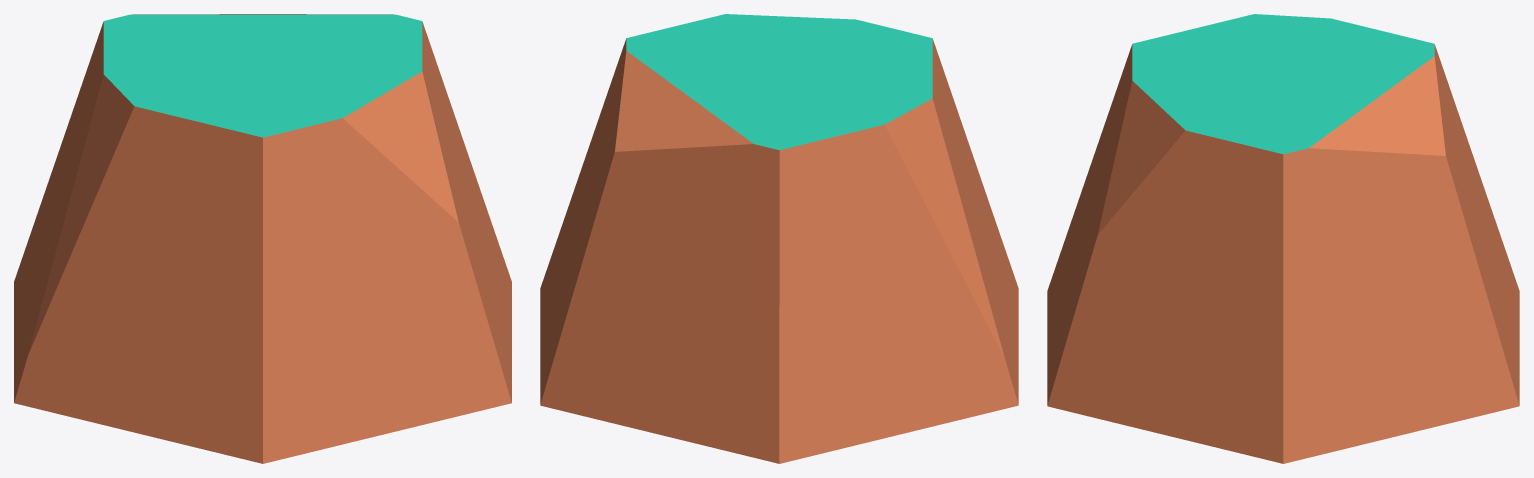
Rendered from rock_smallD.fbx.
3 views of the same model, side by side, from view 1: azimuth 30°, elevation 25°; view 2: azimuth 150°, elevation 25°; view 3: azimuth 270°, elevation 25° (orthographic). The views are drawn at different scales.
Visible parts, largest first — view 1: rock_smallD; view 2: rock_smallD; view 3: rock_smallD.
Boxes of the visible parts, x1=… form: rock_smallD: x1=14, y1=14, x2=511, y2=463; rock_smallD: x1=540, y1=14, x2=1018, y2=463; rock_smallD: x1=1047, y1=14, x2=1519, y2=463.
Bounding box in the file's own units: 4.26 × 2.31 × 3.69.
